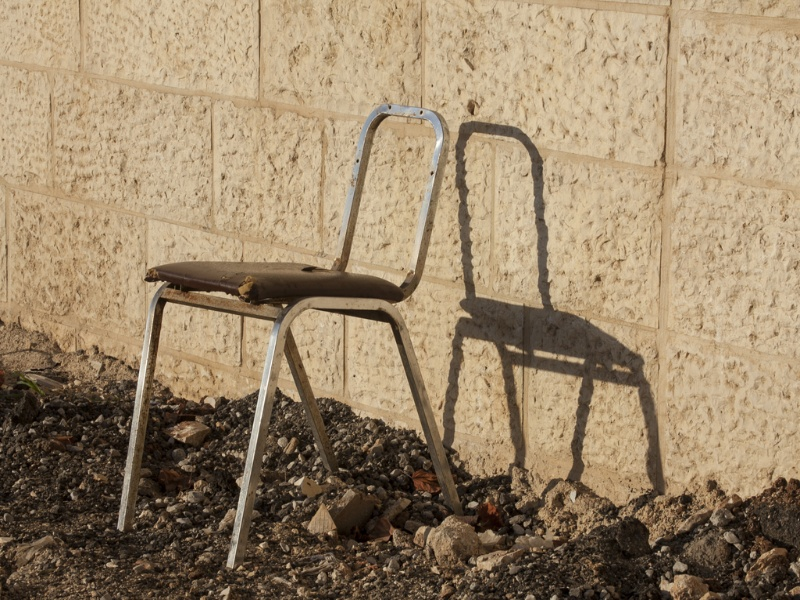chair: (100, 98, 488, 571)
